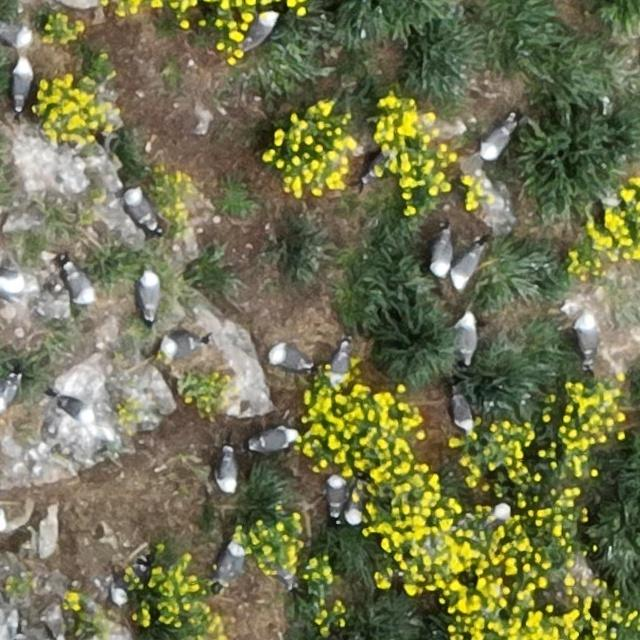umineko: (111, 556, 152, 610), (482, 122, 514, 158), (126, 191, 155, 228), (450, 247, 478, 285), (251, 428, 295, 451), (270, 345, 311, 369), (217, 542, 244, 578), (248, 12, 277, 45), (12, 62, 32, 106), (138, 274, 158, 318), (327, 476, 347, 519), (348, 484, 368, 527), (218, 452, 238, 493), (578, 318, 598, 359), (431, 233, 451, 274), (66, 268, 90, 302), (161, 336, 199, 356), (460, 317, 478, 359), (57, 396, 89, 419), (451, 395, 472, 430), (496, 490, 522, 518), (329, 344, 348, 382), (1, 22, 30, 46), (1, 381, 19, 411)
